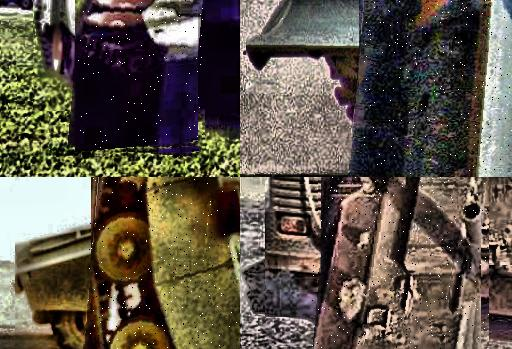tanks: (313, 178, 488, 349), (89, 178, 241, 349), (377, 1, 512, 178), (76, 1, 205, 149)
